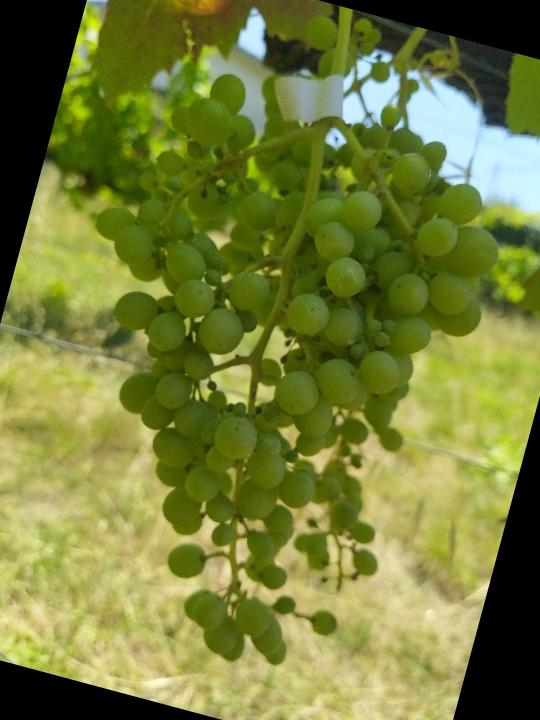grape: (0, 35, 534, 709)
